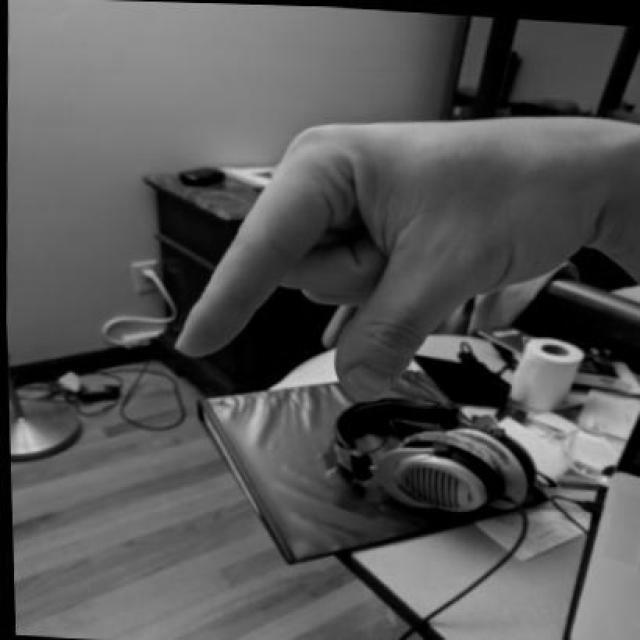Q: (159, 83, 604, 417)
